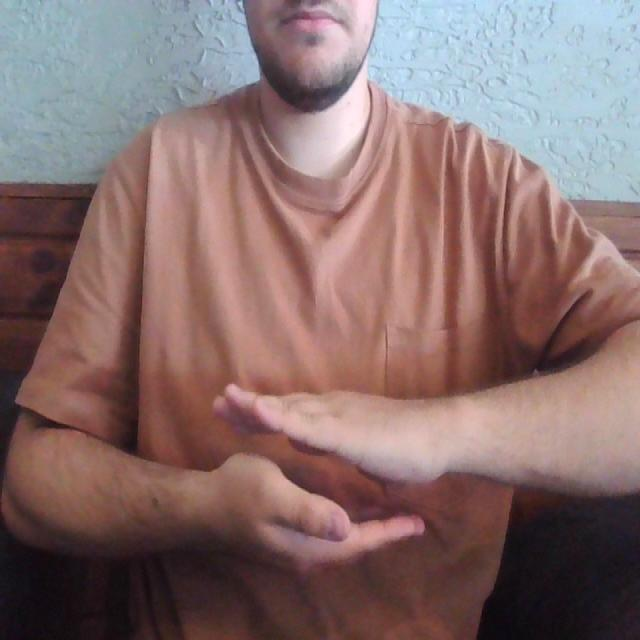Arkadas: (40, 373, 501, 584)
